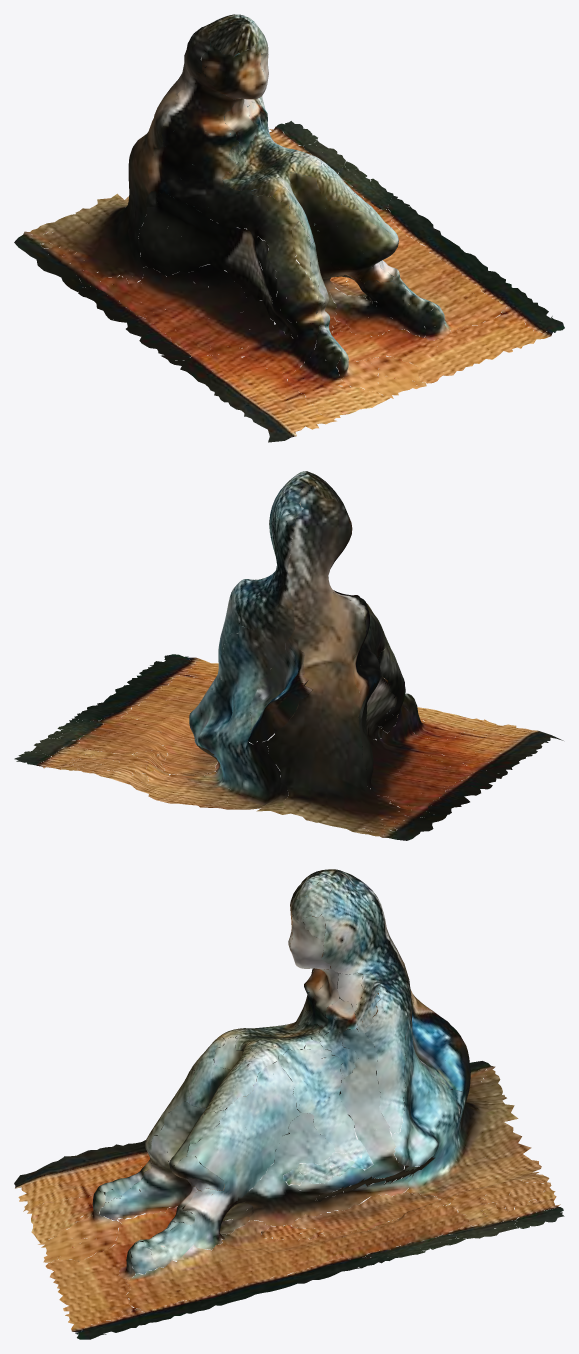
Rendered from sloffie.obj.
3 views of the same model, one above another, from view 1: azimuth 30°, elevation 25°; view 2: azimuth 150°, elevation 25°; view 3: azimuth 270°, elevation 25° (orthographic). The views are drawn at different scales.
Bounding box in the file's own units: 28.76 × 22.03 × 30.6.
Materials: 1 (1 with a texture image).
